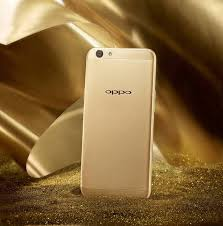oppo: (80, 46, 157, 199)
